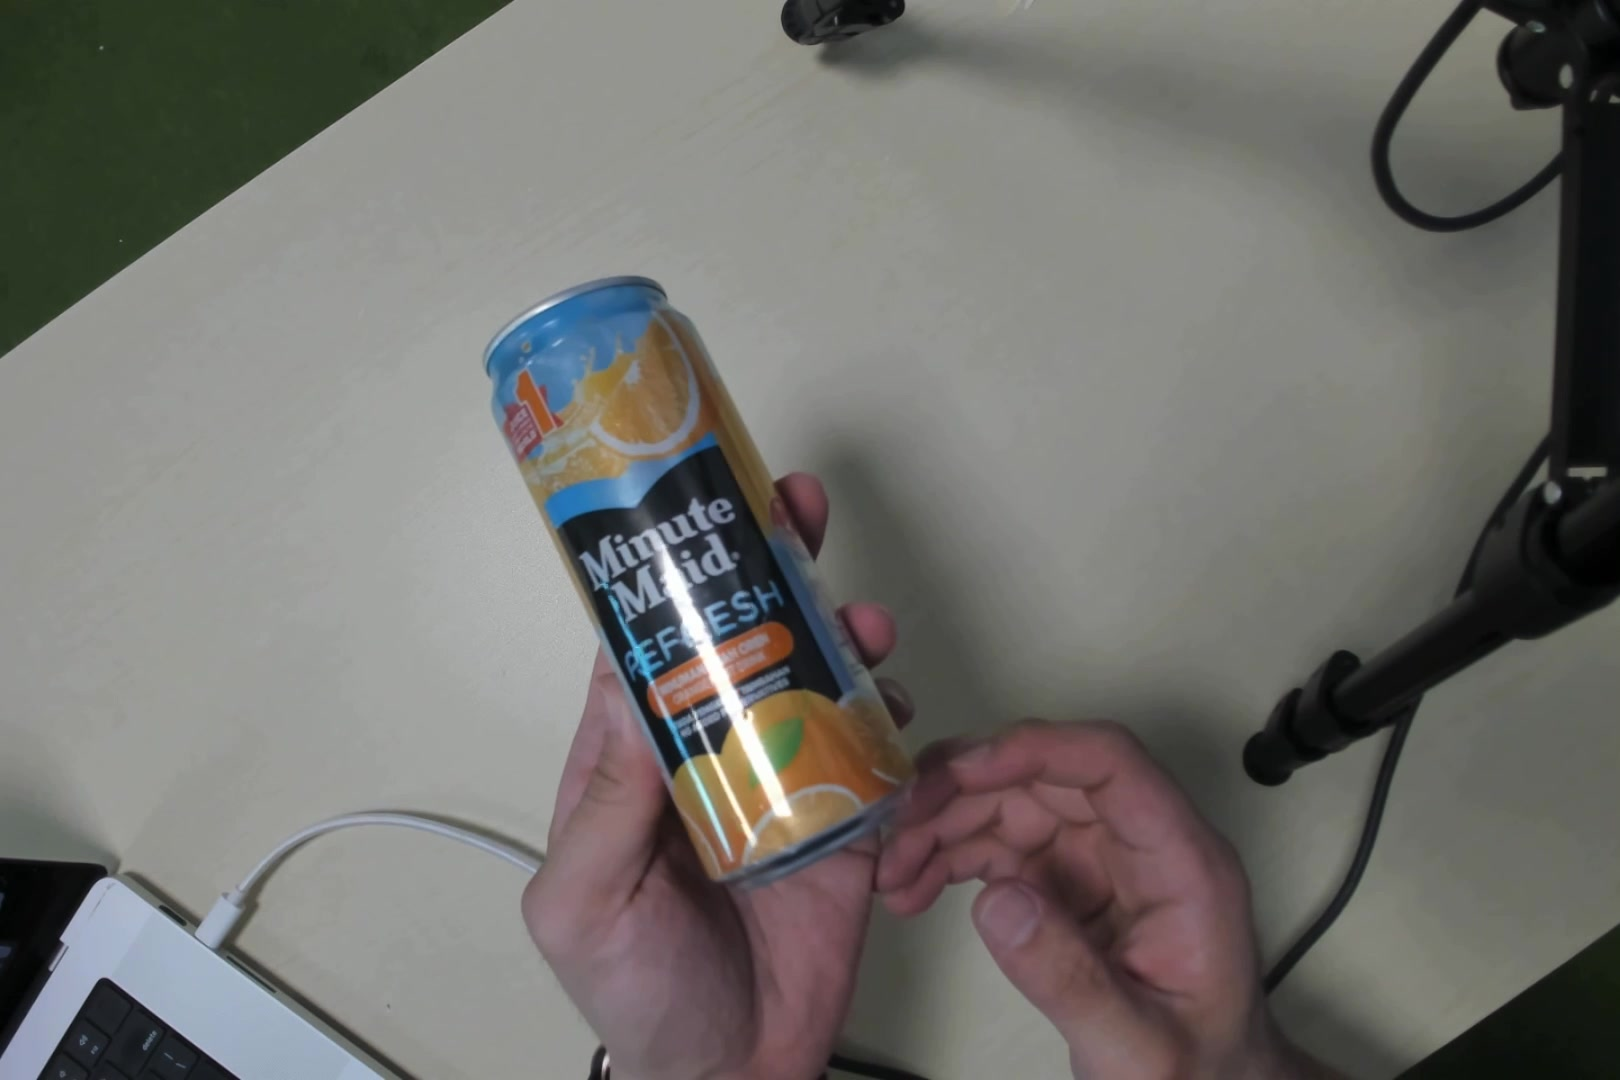SoftDrinks_200-299g_Halal_Healthy: (527, 283, 888, 874)
